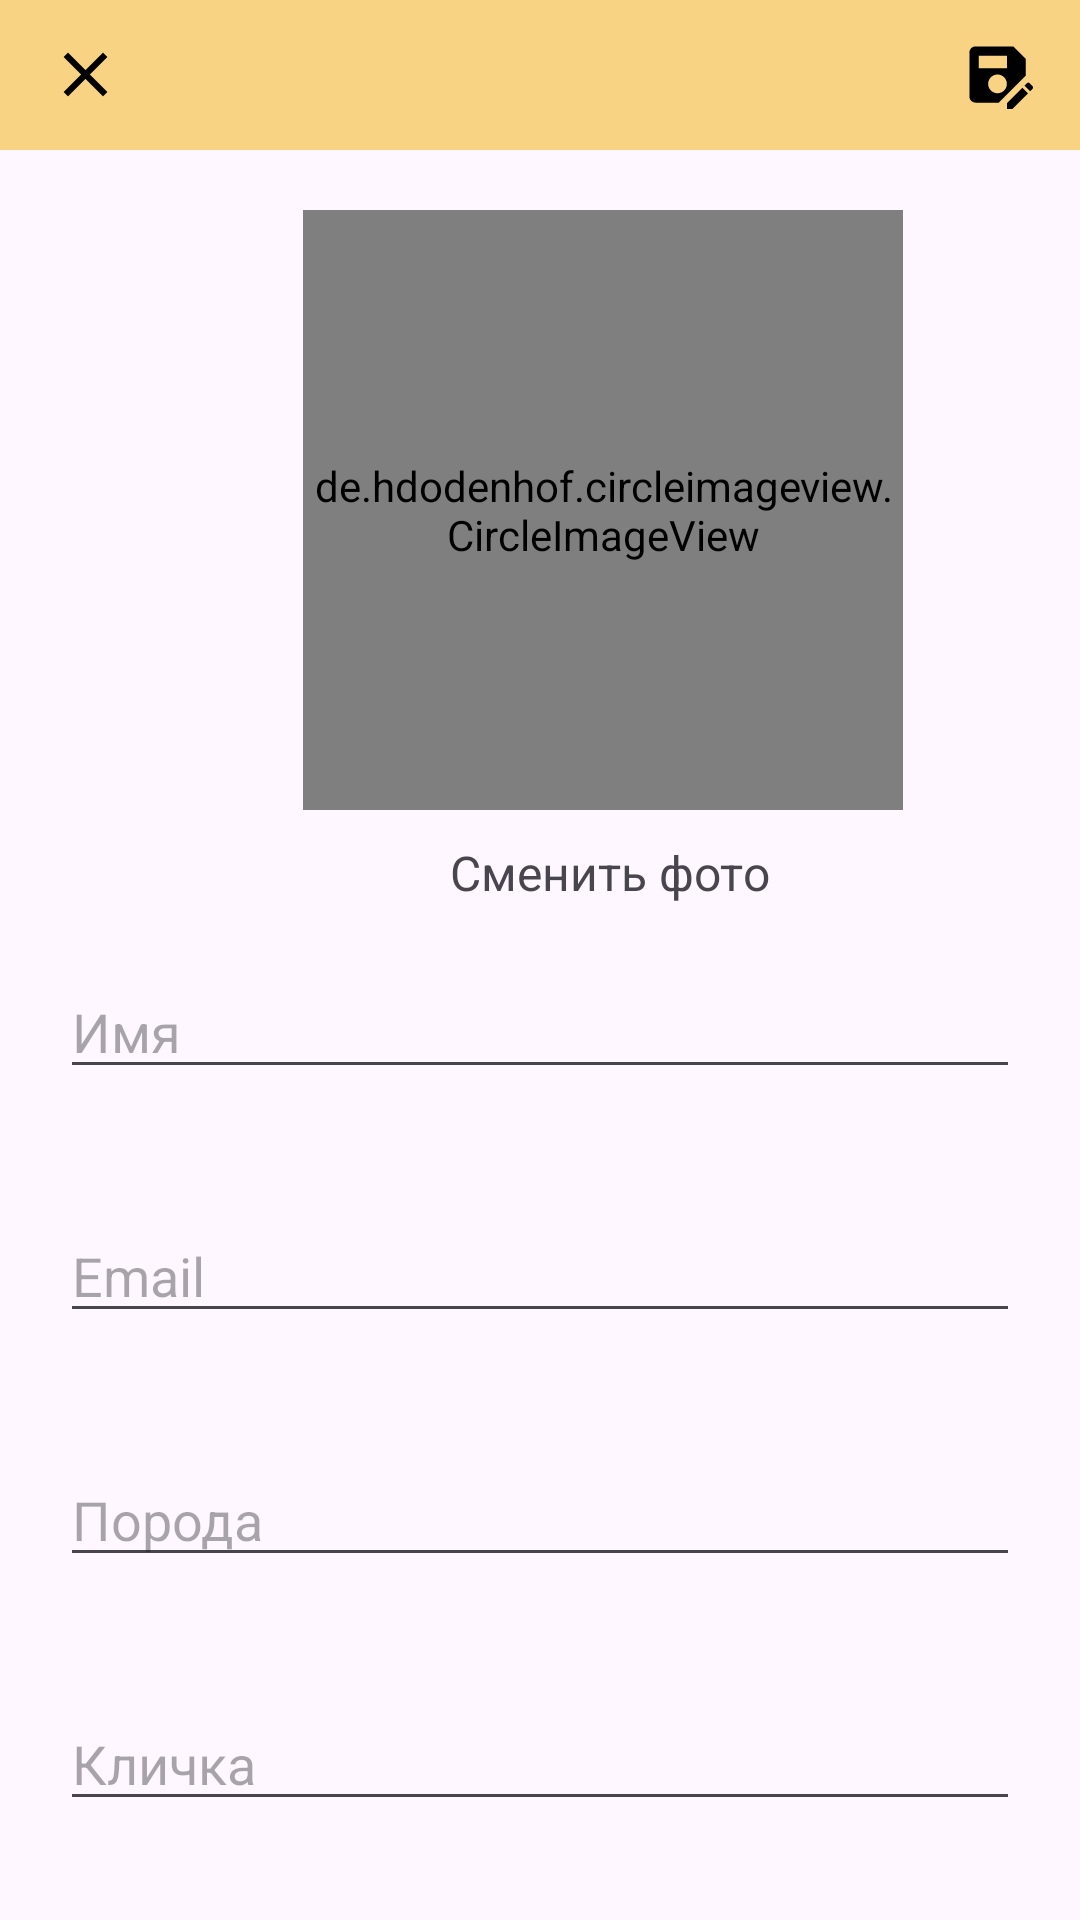

Where icons sit on this 1080 x 1920 app screen, as (x1, y1, x2, y2):
clear: (64, 53, 107, 96)
save as: (969, 46, 1033, 109)
